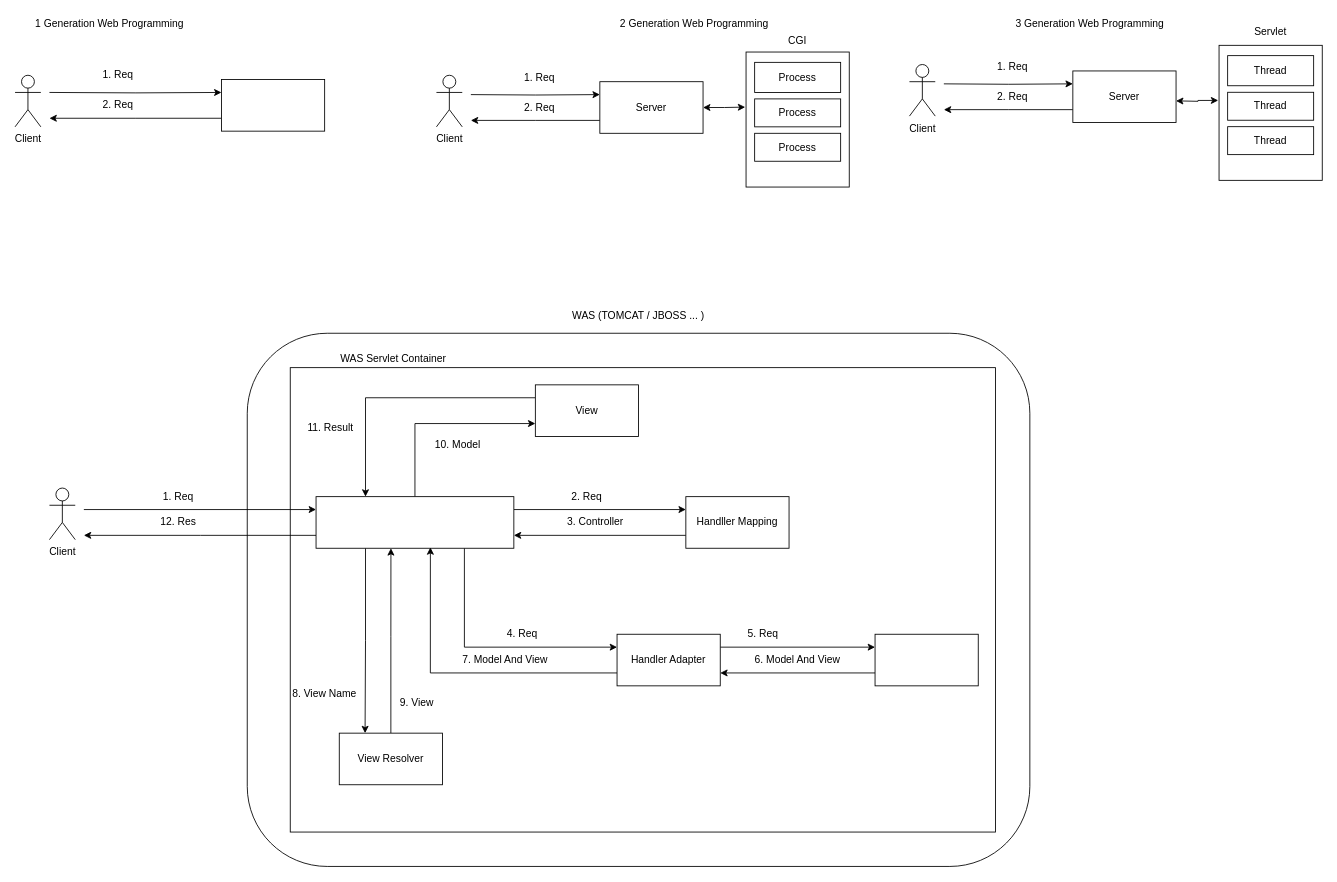
The diagram is 1337 pixels wide and 882 high, and some of its shapes have lost their labels. Each missing label, with the centre of its shape:
"Controller" goes at (926,659).
"Dispatcher Servlet (Spring MVC)" goes at (414,522).
"Static Page" goes at (273,105).
